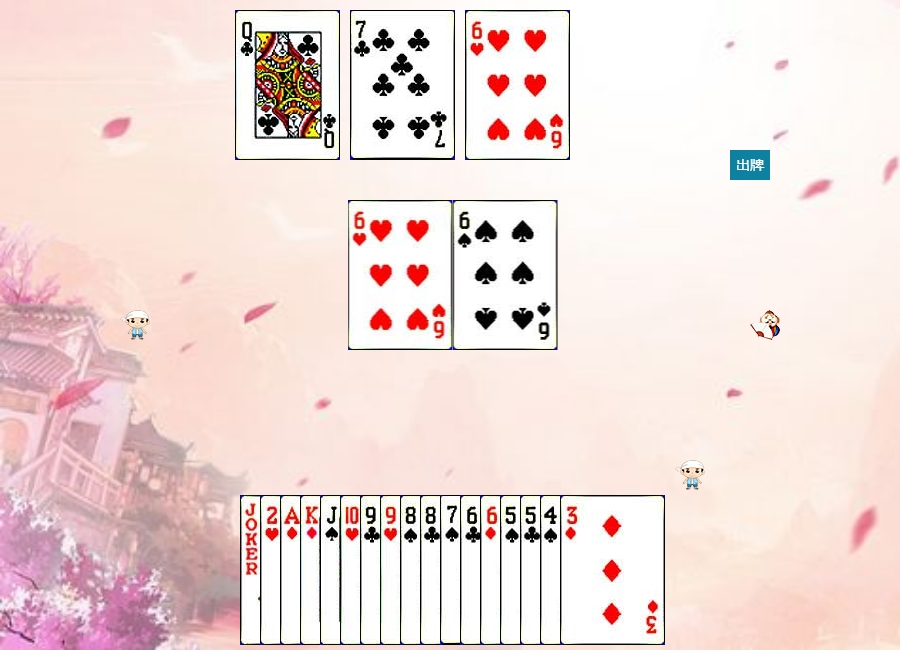10~3: (340, 495, 445, 645)
11~4: (320, 495, 425, 645)
12~2: (235, 10, 340, 160)
13~1: (300, 495, 405, 645)
14~1: (280, 495, 385, 645)
15~3: (260, 495, 365, 645)
18~4: (240, 495, 345, 645)
3~1: (560, 495, 665, 645)
4~4: (540, 495, 645, 645)
5~2: (520, 495, 625, 645)
5~4: (500, 495, 605, 645)
6~1: (480, 495, 585, 645)
6~2: (460, 495, 565, 645)
6~3: (465, 10, 570, 160), (348, 200, 453, 350)
6~4: (453, 200, 558, 350)
7~2: (350, 10, 455, 160)
7~4: (440, 495, 545, 645)
8~2: (420, 495, 525, 645)
8~4: (400, 495, 505, 645)
9~2: (360, 495, 465, 645)
9~3: (380, 495, 485, 645)
